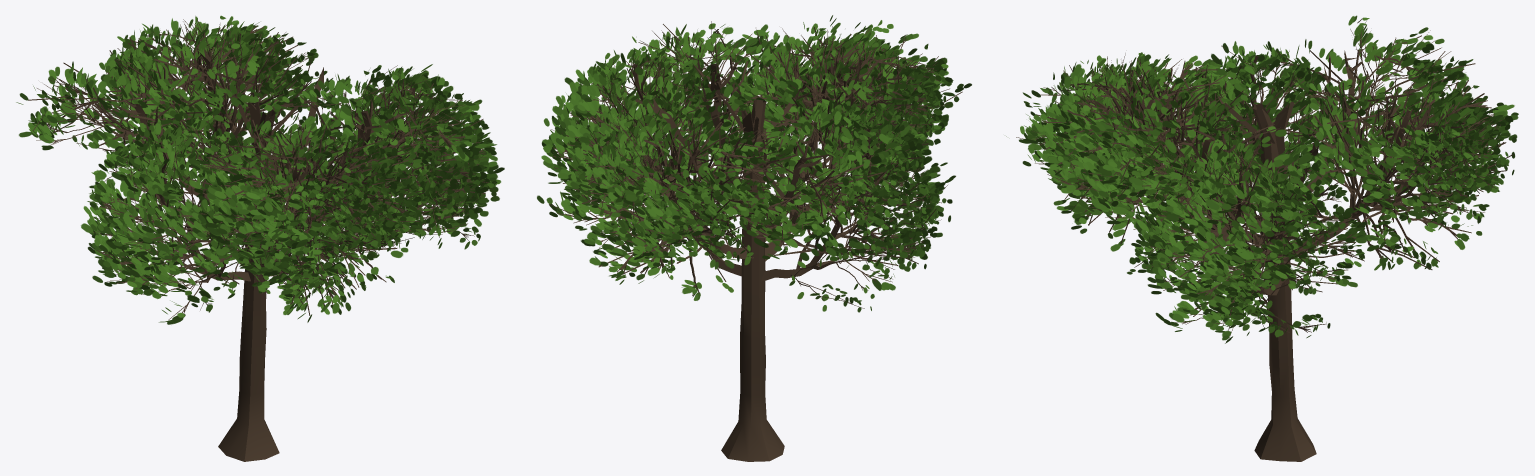
3 views of the same model, side by side, from view 1: azimuth 30°, elevation 25°; view 2: azimuth 150°, elevation 25°; view 3: azimuth 270°, elevation 25° (orthographic). The views are drawn at different scales.
Visible parts, largest first — view 1: oak 01.001_trunk_Mat.001_0.085; view 2: oak 01.001_trunk_Mat.001_0.085; view 3: oak 01.001_trunk_Mat.001_0.085.
Boxes of the visible parts, bbox=[...] form: oak 01.001_trunk_Mat.001_0.085: bbox=[16, 15, 504, 461]; oak 01.001_trunk_Mat.001_0.085: bbox=[537, 15, 971, 461]; oak 01.001_trunk_Mat.001_0.085: bbox=[1006, 15, 1518, 461].
Size of the model in its own units: 6.18 by 5.11 by 6.49.
Materials: 2 (1 with a texture image).
